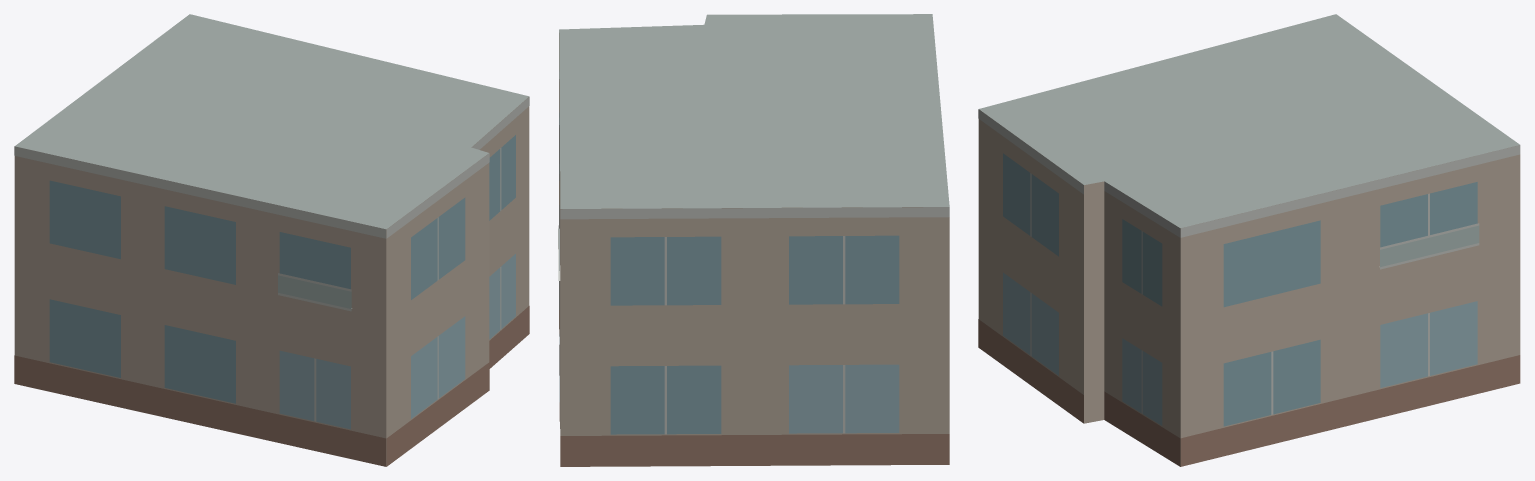
The model's file is survey-upis-32595080.glb.
The picture shows the model from 3 angles, left to right: view 1: azimuth 30°, elevation 25°; view 2: azimuth 150°, elevation 25°; view 3: azimuth 270°, elevation 25°; orthographic projection. The views are drawn at different scales.
Parts seen in each view (by area): view 1: survey-upis-32595080.tmp; view 2: survey-upis-32595080.tmp; view 3: survey-upis-32595080.tmp.
Boxes of the visible parts, x1=… form: survey-upis-32595080.tmp: x1=14, y1=14, x2=529, y2=466; survey-upis-32595080.tmp: x1=558, y1=14, x2=949, y2=466; survey-upis-32595080.tmp: x1=978, y1=14, x2=1520, y2=466.
Size of the model in its own units: 11.76 by 6.1 by 12.57.
